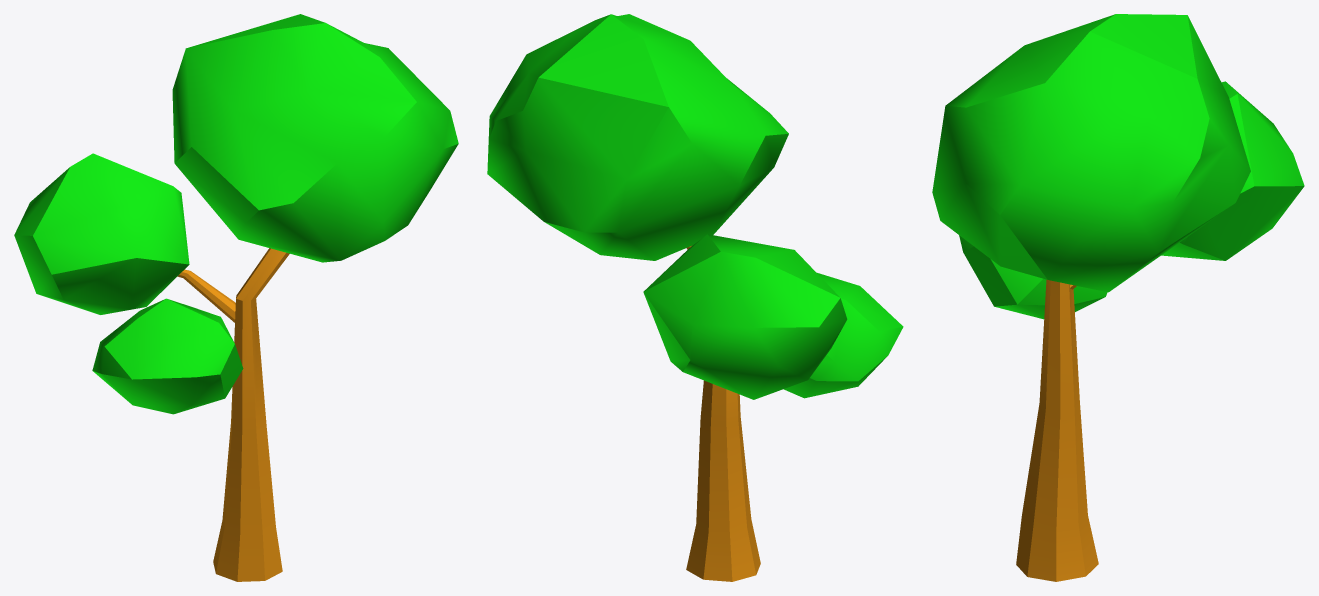
The model's file is M_Tree1.fbx.
3 views of the same model, side by side, from view 1: azimuth 30°, elevation 25°; view 2: azimuth 150°, elevation 25°; view 3: azimuth 270°, elevation 25° (orthographic). The views are drawn at different scales.
Parts seen in each view (by area): view 1: M_Tree1; view 2: M_Tree1; view 3: M_Tree1.
Part boxes in pixels (<box>): M_Tree1: <box>14,14,458,581</box>; M_Tree1: <box>487,14,903,581</box>; M_Tree1: <box>932,14,1304,581</box>.
Size of the model in its own units: 2.19 by 3.02 by 1.74.
